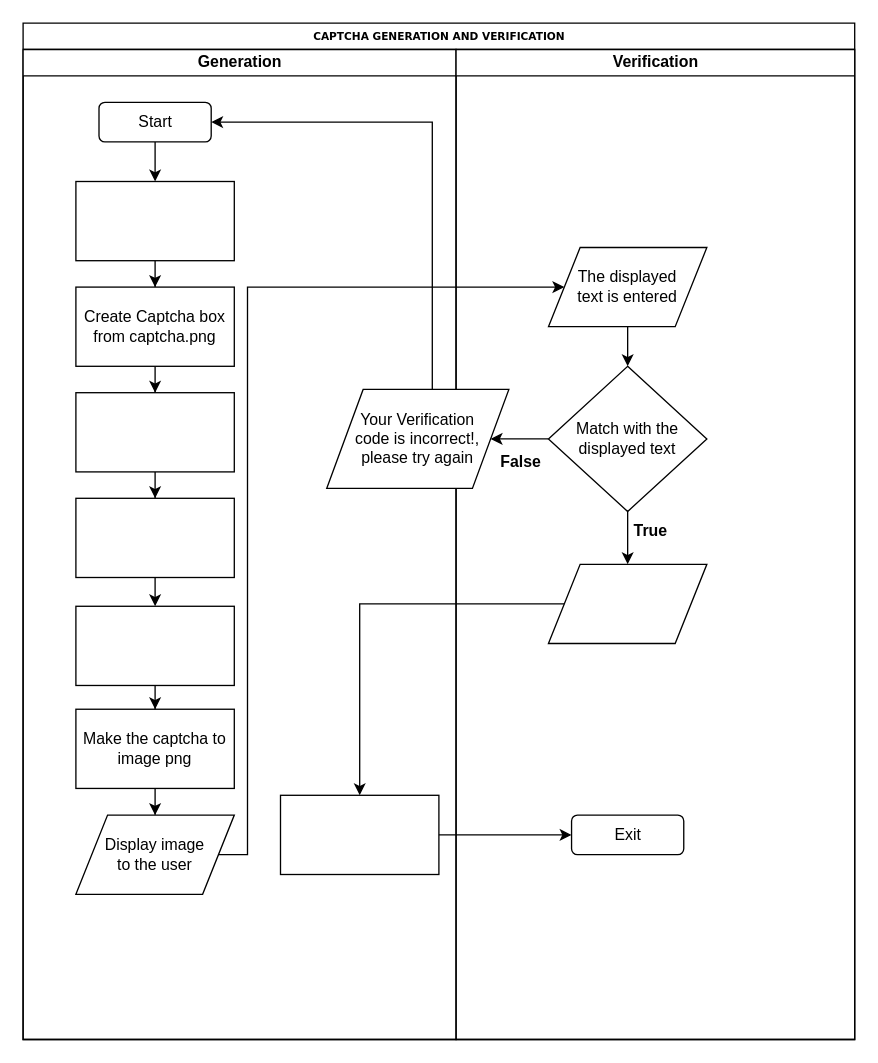
The diagram is 878 pixels wide and 1063 high, and some of its shapes have lost their labels. The shapes that lost their labels are listed below. From the top down, each one's box as (x1, y1, x2, y2) in pixels, then its label:
(75, 180, 234, 261): Create Captcha session
(75, 391, 234, 472): Load captcha font from font.gdf
(75, 497, 234, 578): Draw the text into the captcha box
(547, 563, 707, 644): Successful
(75, 605, 234, 685): Allocate captcha color
(279, 794, 439, 874): Image destroy
